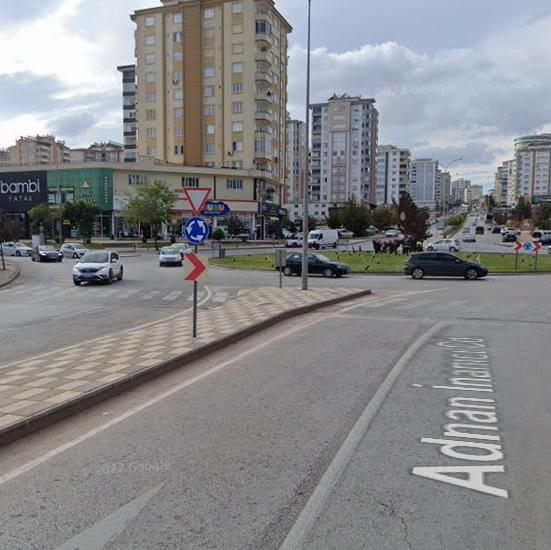crossroads: (181, 215, 211, 244)
